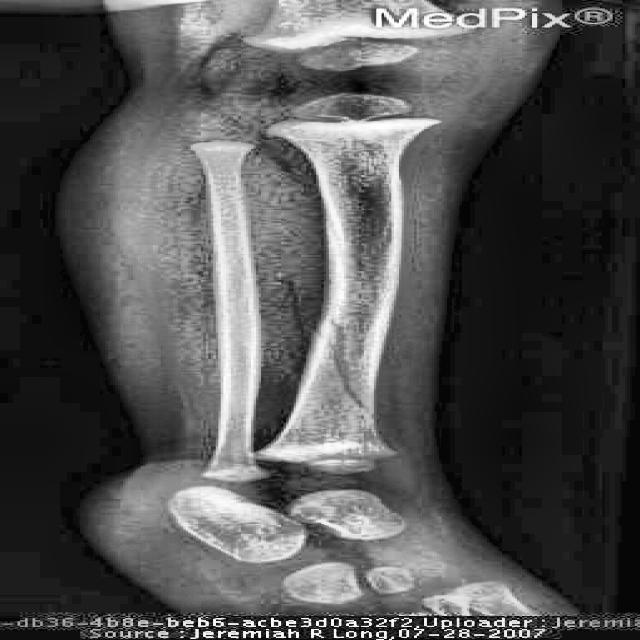line: (324, 315, 374, 414)
